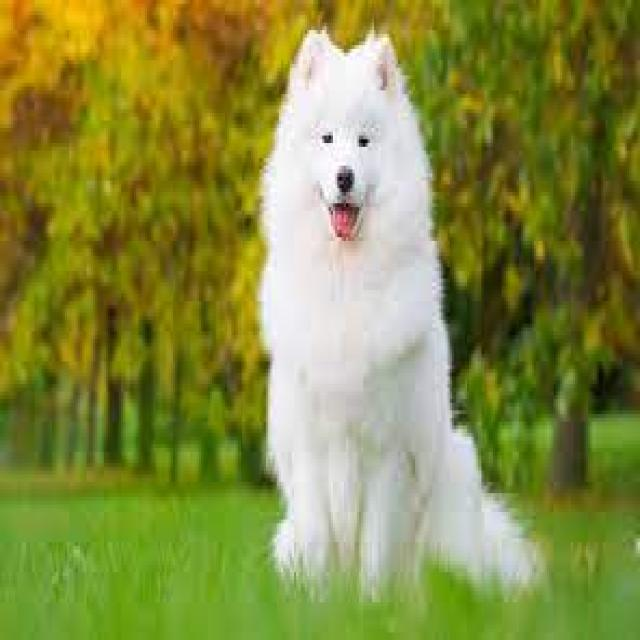dogs: (254, 25, 543, 585)
